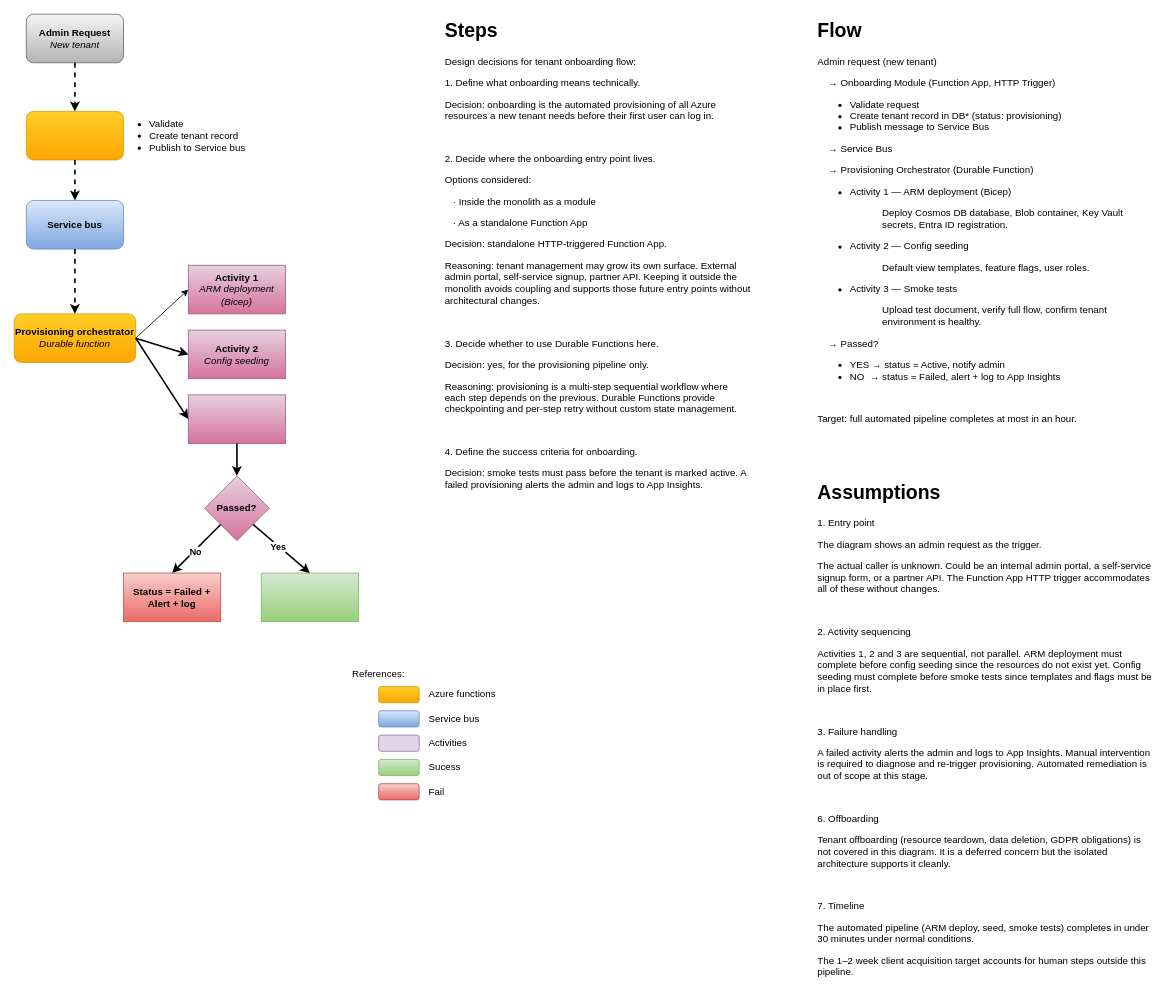
This 1170x1003 diagram has some shape labels left out. The centre of each missing label's shape, as x and y in pixels:
"Activity 3 Smoke tests" belongs at (x=237, y=418).
"Onboarding Module Funtion App HTTP Trigger" belongs at (x=75, y=135).
"Status = Active + notify Admin" belongs at (x=309, y=597).
